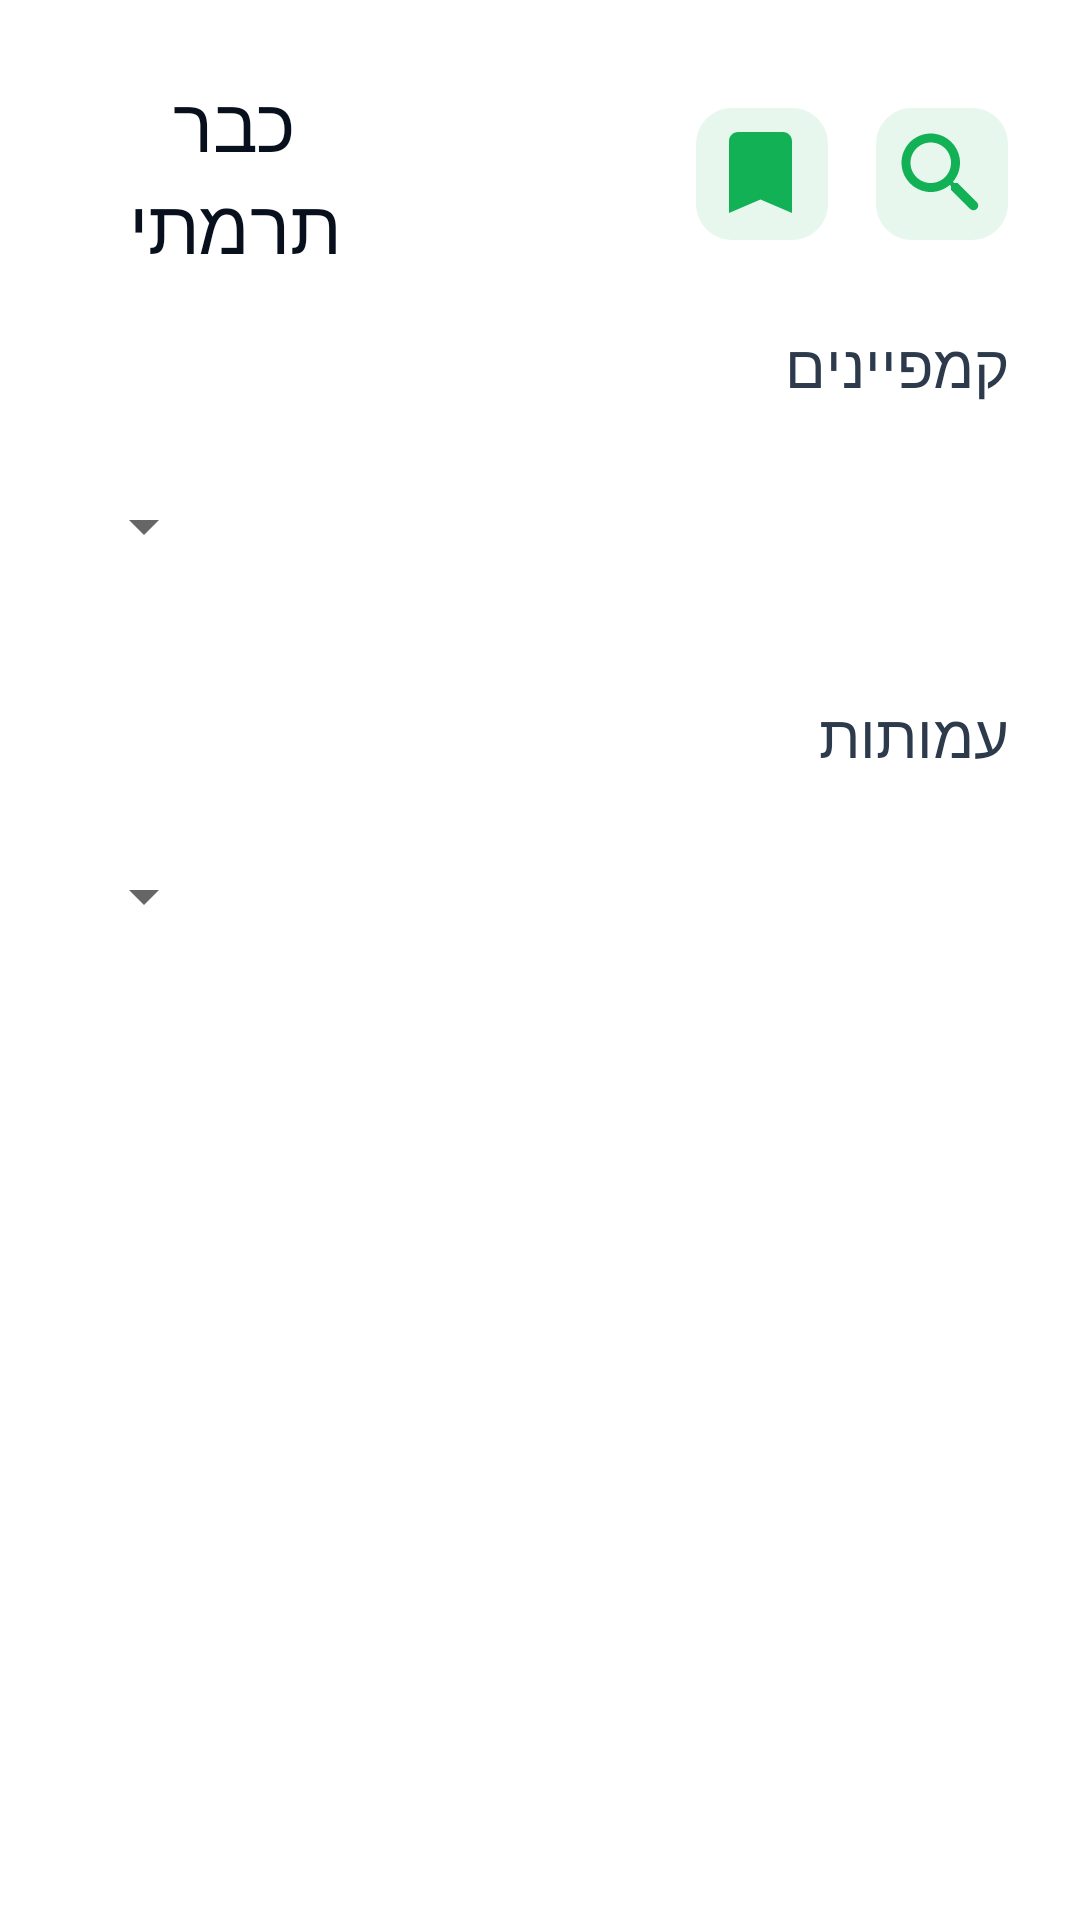

Point at icon controls on the screen. Image size 1080 × 1920, points as (x,y).
bookmark: (760,172)
search: (942,174)
